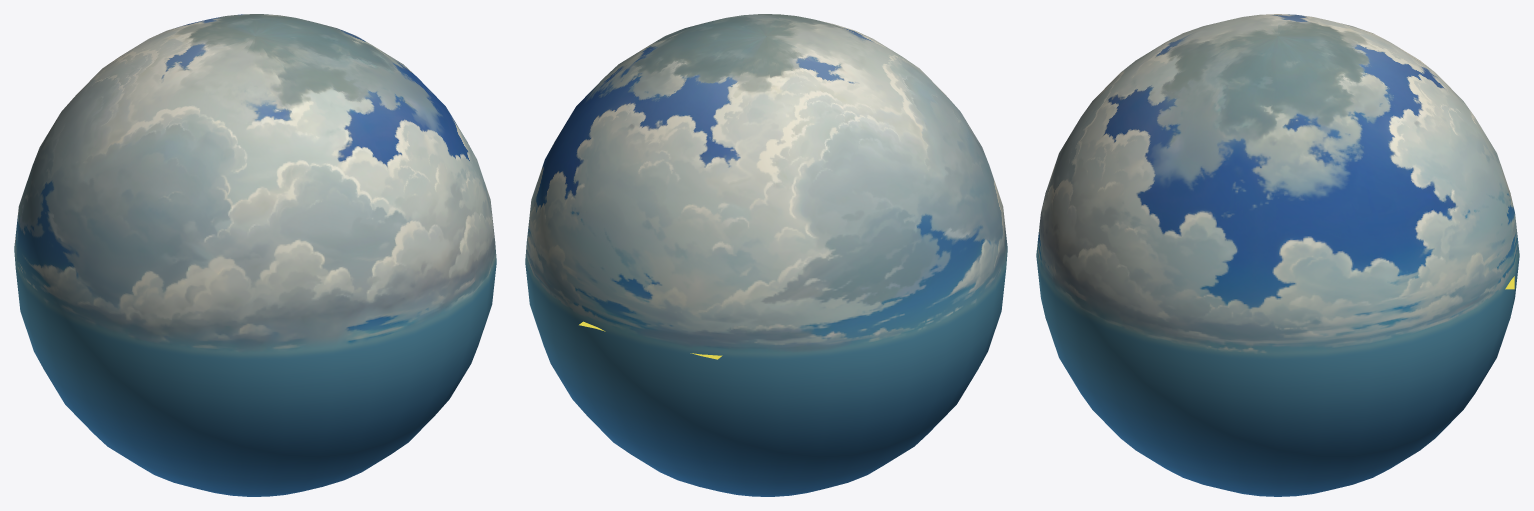
The model's file is environment.glb.
3 views of the same model, side by side, from view 1: azimuth 30°, elevation 25°; view 2: azimuth 150°, elevation 25°; view 3: azimuth 270°, elevation 25° (orthographic).
Visible parts, largest first — view 1: MESH_Sky; view 2: MESH_Sky; view 3: MESH_Sky.
Part boxes in pixels (<box>): MESH_Sky: <box>14,14,496,496</box>; MESH_Sky: <box>525,14,1007,496</box>; MESH_Sky: <box>1036,14,1519,496</box>.
Size of the model in its own units: 400 by 400 by 400.
Materials: 40 (1 with a texture image).
